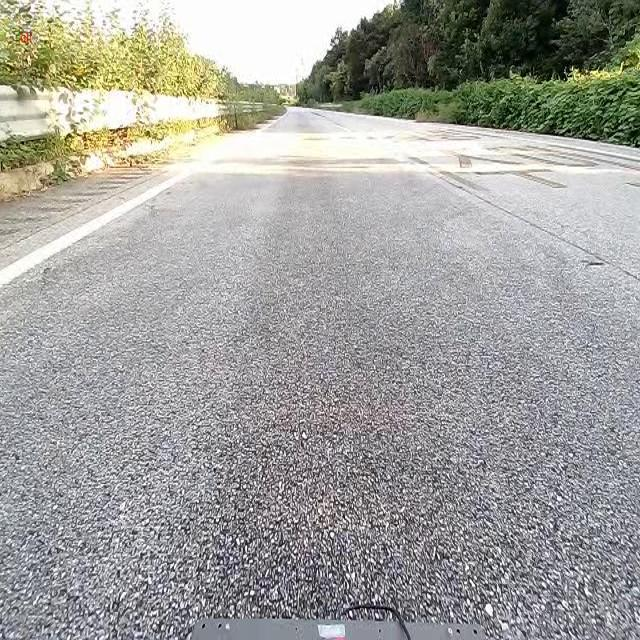Lane: (0, 154, 208, 291), (0, 165, 207, 290)
